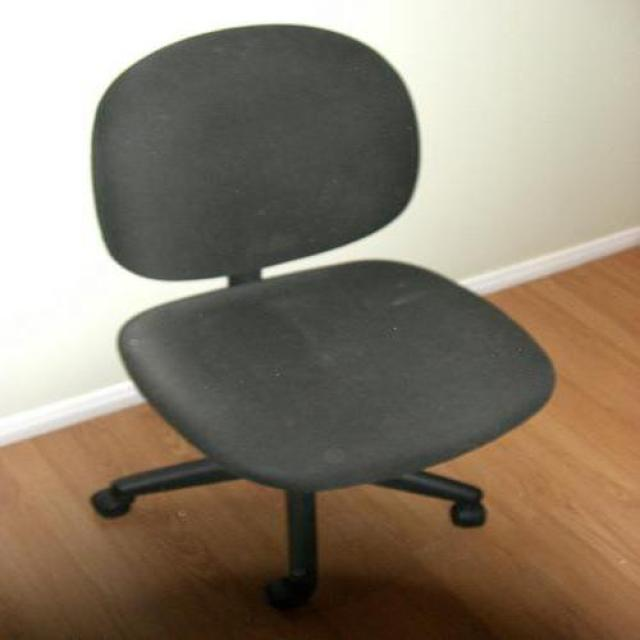swivelchair: (88, 24, 559, 614)
